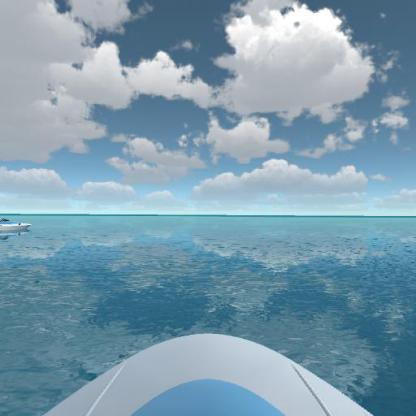usv1: (0, 212, 37, 244)
